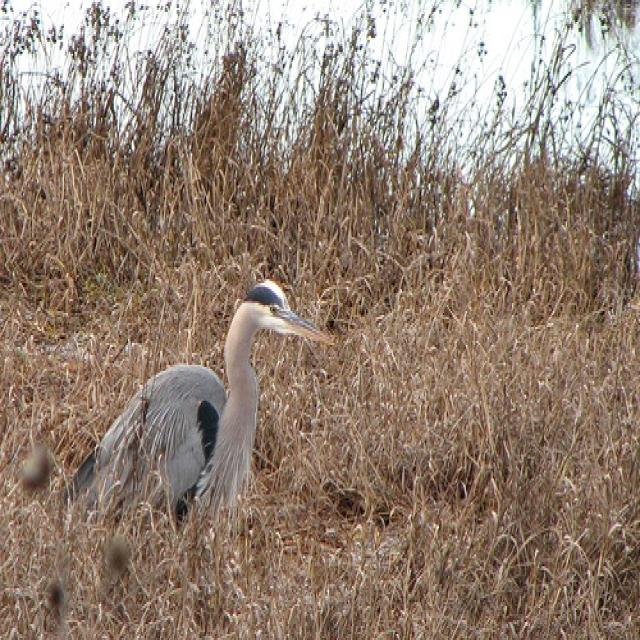bird: (58, 276, 330, 516)
